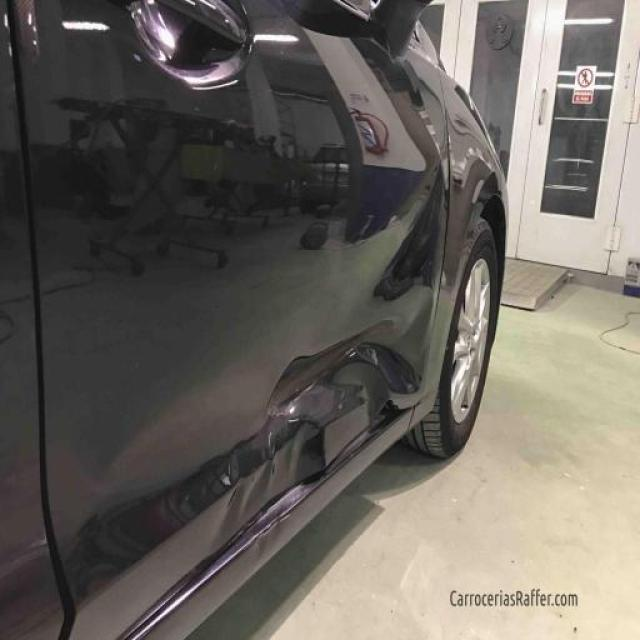dent: (222, 335, 423, 556)
